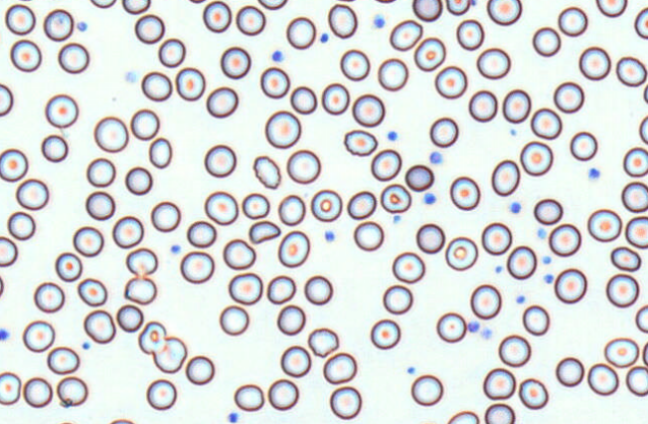PLT: (428, 150, 446, 166), (270, 51, 287, 65), (587, 167, 601, 184), (371, 15, 386, 28), (387, 130, 400, 145), (424, 192, 437, 207), (126, 68, 139, 82), (0, 325, 10, 343), (510, 202, 523, 215), (467, 321, 480, 333), (538, 226, 548, 241), (319, 32, 331, 44), (515, 294, 527, 306), (543, 272, 554, 285), (169, 242, 180, 255), (323, 231, 334, 244), (390, 214, 404, 224), (75, 20, 87, 31), (228, 411, 238, 424), (542, 255, 552, 266), (405, 366, 415, 376), (83, 341, 91, 351)
RBC: (264, 110, 301, 148), (152, 335, 187, 373), (93, 116, 128, 152), (519, 140, 553, 176), (44, 93, 78, 128), (286, 149, 320, 184), (587, 208, 622, 242), (277, 230, 309, 267), (204, 191, 238, 225), (605, 273, 639, 307), (554, 268, 587, 303), (83, 309, 116, 343), (228, 272, 262, 305), (180, 250, 214, 283), (434, 65, 467, 99), (445, 236, 478, 270), (578, 46, 611, 80), (413, 36, 445, 71), (470, 283, 501, 319), (482, 367, 515, 400), (548, 223, 581, 256), (322, 352, 356, 384), (329, 385, 361, 419), (476, 47, 510, 79), (352, 93, 384, 127), (491, 159, 520, 196), (410, 374, 443, 406), (15, 178, 48, 210), (498, 334, 530, 367), (9, 39, 41, 72), (22, 320, 55, 352), (389, 19, 422, 51), (392, 251, 425, 283), (204, 144, 236, 177), (310, 189, 342, 222), (377, 57, 408, 91), (449, 176, 480, 210), (327, 3, 357, 38), (604, 337, 639, 367), (56, 375, 88, 407), (267, 378, 299, 410), (206, 86, 238, 118), (530, 107, 562, 139), (222, 238, 255, 269), (587, 362, 618, 395), (112, 215, 143, 248), (370, 148, 401, 181), (175, 67, 205, 101), (506, 245, 536, 279), (502, 88, 531, 123), (4, 3, 35, 35), (280, 345, 311, 377), (57, 42, 89, 73), (33, 281, 64, 313), (339, 49, 370, 81), (553, 81, 584, 113), (43, 8, 73, 41), (286, 16, 316, 49), (220, 46, 250, 79), (481, 222, 511, 255), (252, 155, 281, 189), (72, 226, 103, 257), (146, 378, 176, 410), (518, 377, 548, 409), (260, 66, 290, 98), (468, 89, 497, 122), (219, 304, 249, 335), (22, 376, 52, 407), (307, 327, 338, 357), (370, 318, 400, 349), (436, 311, 466, 342), (353, 220, 383, 251), (141, 71, 172, 101), (150, 201, 180, 232), (380, 183, 411, 213), (124, 276, 156, 305), (125, 247, 157, 276), (130, 108, 159, 140), (202, 0, 231, 32), (0, 148, 28, 181), (46, 346, 79, 374), (321, 82, 349, 115), (343, 129, 377, 156), (382, 284, 412, 314), (134, 13, 164, 43), (266, 274, 296, 304), (235, 5, 265, 35), (557, 6, 587, 36), (616, 56, 646, 86), (555, 356, 584, 387), (276, 304, 305, 335), (429, 116, 458, 147), (486, 0, 521, 25), (185, 355, 214, 385), (77, 277, 107, 306), (86, 157, 115, 187), (85, 191, 115, 220), (416, 223, 445, 253), (346, 190, 376, 219), (233, 383, 264, 411), (456, 19, 484, 50), (304, 274, 332, 305), (277, 194, 305, 225), (186, 220, 216, 248), (157, 37, 185, 67), (532, 26, 560, 56), (569, 131, 597, 161), (621, 181, 648, 212), (522, 304, 549, 335), (7, 211, 35, 240), (55, 252, 82, 282), (404, 164, 434, 191), (241, 192, 270, 219), (125, 166, 152, 195), (290, 85, 317, 114), (533, 198, 562, 225), (610, 246, 641, 271), (116, 304, 143, 332), (41, 134, 68, 162), (623, 146, 647, 177), (148, 137, 172, 168), (0, 371, 21, 405), (625, 365, 648, 396), (625, 216, 647, 248), (412, 0, 442, 21), (484, 403, 515, 423), (595, 0, 627, 17), (0, 235, 17, 266), (0, 83, 13, 116), (446, 410, 479, 423), (634, 7, 647, 39), (122, 0, 150, 14), (445, 0, 470, 15), (635, 304, 647, 333), (257, 0, 287, 10), (639, 115, 647, 144), (89, 0, 116, 8), (642, 340, 648, 366), (108, 418, 134, 423), (643, 82, 648, 103), (0, 274, 4, 298), (56, 420, 77, 424), (374, 0, 397, 3), (187, 0, 206, 3), (14, 0, 36, 1), (335, 0, 357, 1)
Schistocyte: (138, 321, 165, 353), (250, 220, 282, 244)
